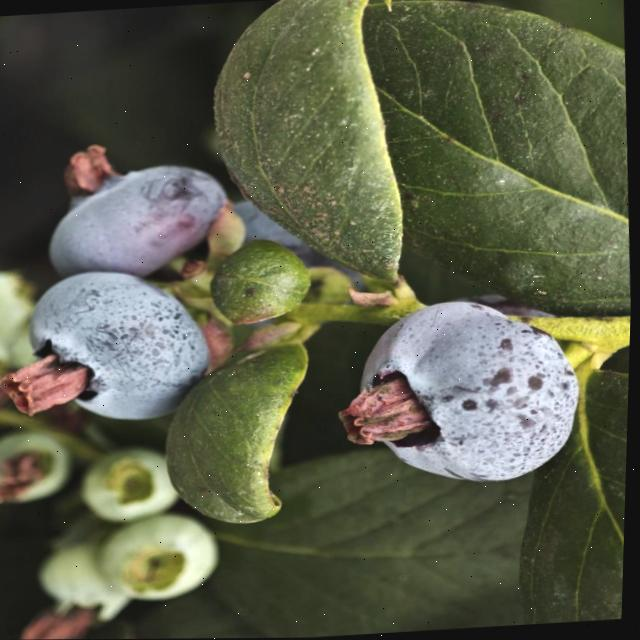RipeBlueBerry: (346, 293, 590, 494), (16, 262, 219, 430), (42, 160, 232, 281)
UnripeBlueBerry: (96, 513, 225, 606)
